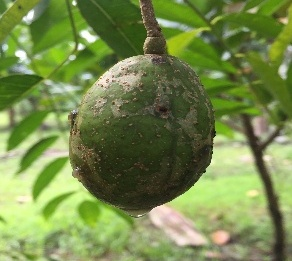Coc: (68, 55, 214, 211)
